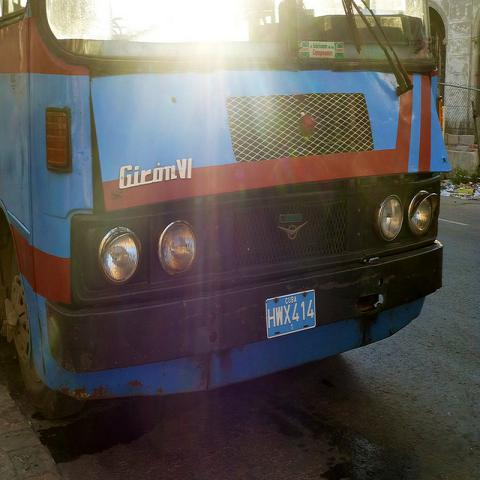bus: (0, 3, 451, 420)
